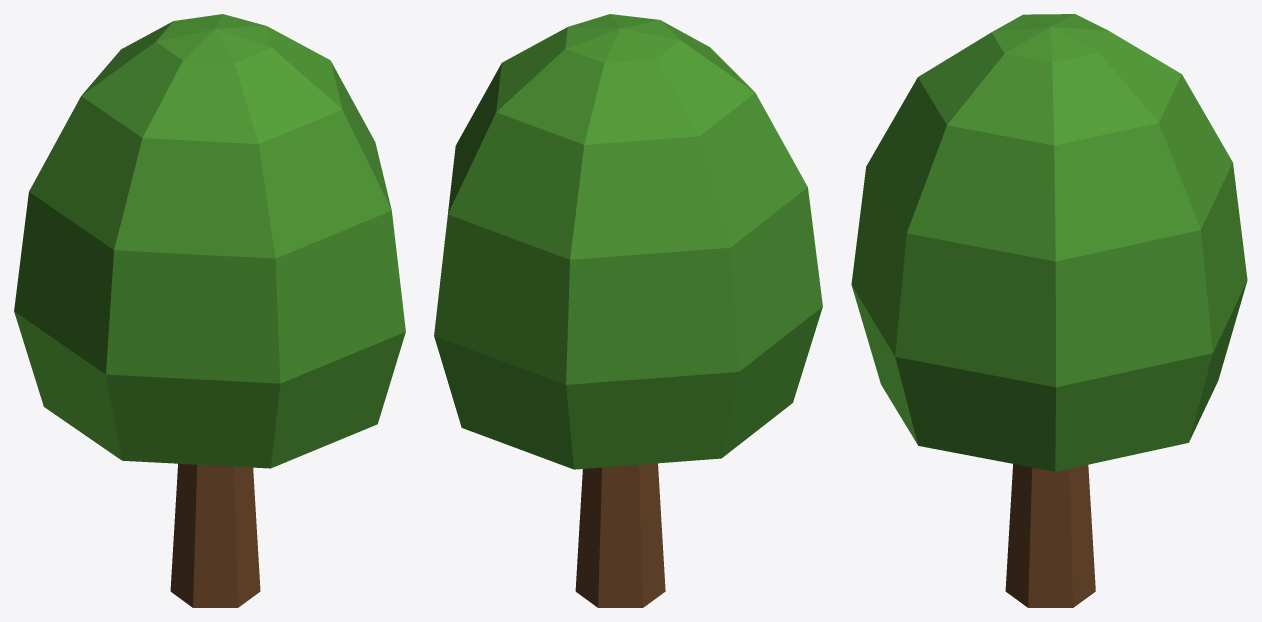
File: tree_0.glb
The picture shows the model from 3 angles, left to right: view 1: azimuth 30°, elevation 25°; view 2: azimuth 150°, elevation 25°; view 3: azimuth 270°, elevation 25°; orthographic projection.
Parts seen in each view (by area): view 1: Tree; view 2: Tree; view 3: Tree.
Part boxes in pixels (x1,y1,x2,y2): Tree: (14,14,405,607); Tree: (434,14,822,607); Tree: (851,14,1247,607).
Bounding box in the file's own units: 2.06 × 3.31 × 2.11.
